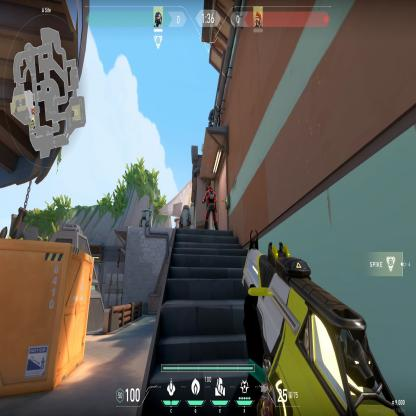enemy: (202, 181, 220, 232)
